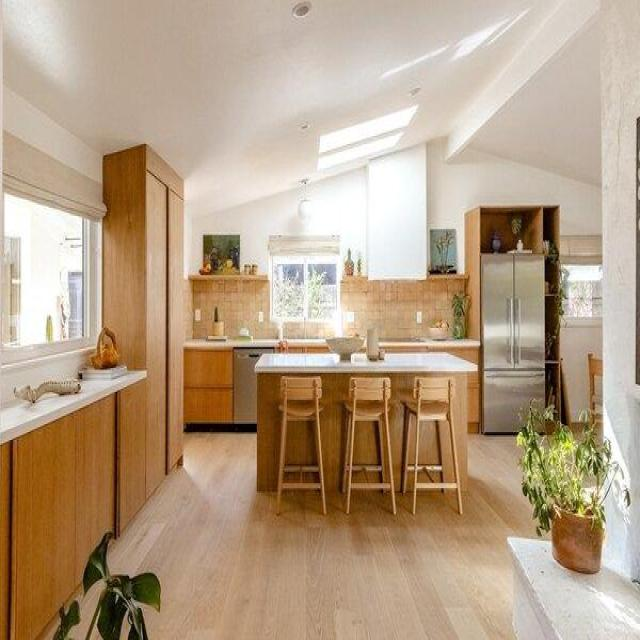dishwasher: (232, 343, 260, 427)
